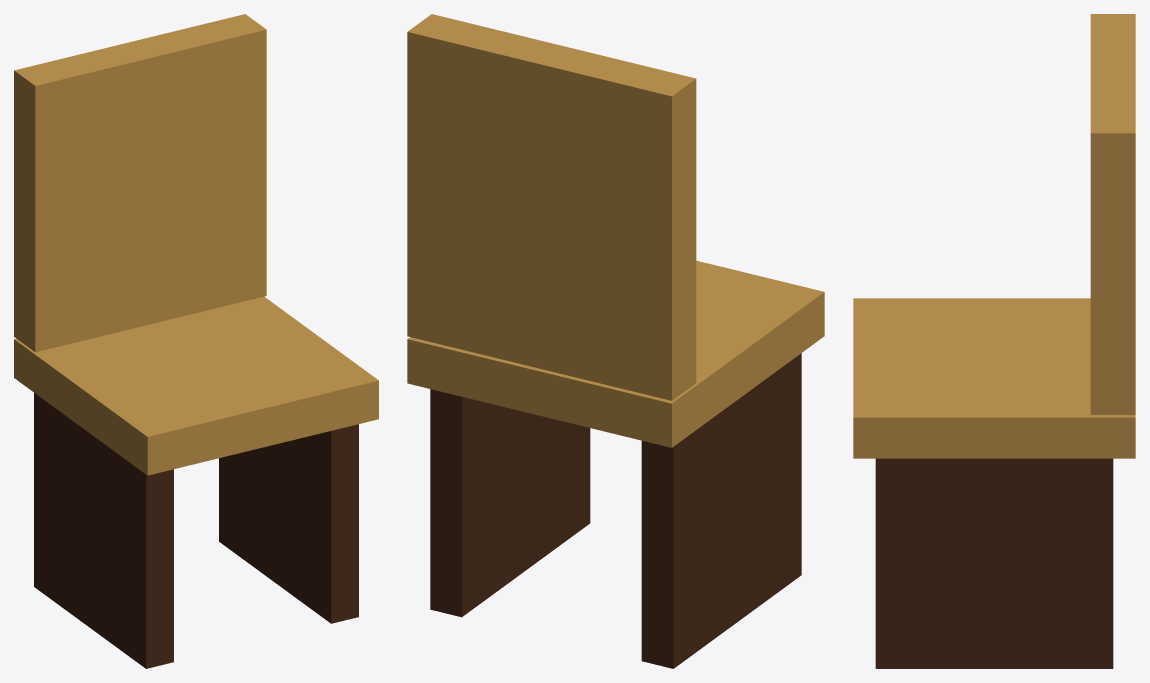
File: chair.gltf
3 renders of one model, left to right at view 1: azimuth 30°, elevation 25°; view 2: azimuth 150°, elevation 25°; view 3: azimuth 270°, elevation 25°, orthographic. The views are drawn at different scales.
Visible parts, largest first — view 1: back, legs, seat; view 2: back, legs, seat; view 3: legs, seat, back.
Part boxes in pixels (bbox=[...]): back: bbox=[14, 14, 266, 352]; legs: bbox=[34, 393, 358, 668]; seat: bbox=[14, 296, 378, 475]; back: bbox=[407, 14, 696, 400]; legs: bbox=[430, 353, 801, 668]; seat: bbox=[407, 260, 824, 447]; legs: bbox=[875, 458, 1113, 668]; seat: bbox=[853, 298, 1135, 458]; back: bbox=[1090, 14, 1135, 414].
Bounding box in the file's own units: 0.5 × 1.05 × 0.5.
